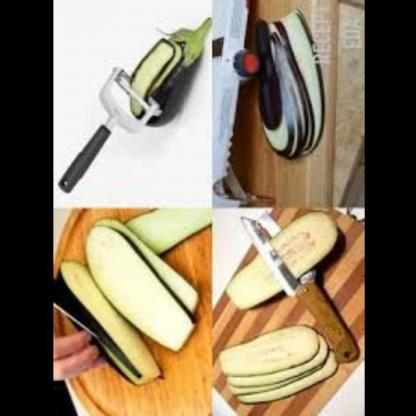eggplant: (52, 224, 192, 381), (242, 4, 334, 166), (122, 0, 226, 136), (233, 212, 343, 320), (219, 306, 336, 407)
